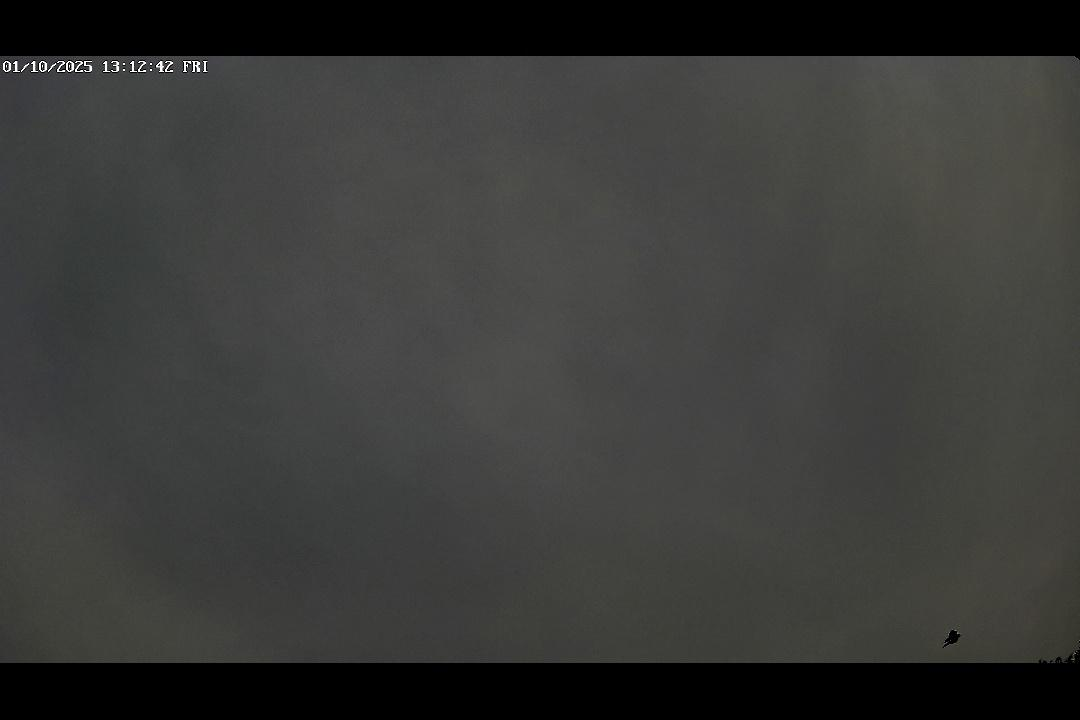WildLife: (923, 623, 980, 659)
